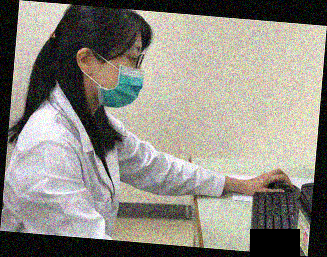with_mask: (93, 41, 144, 108)
